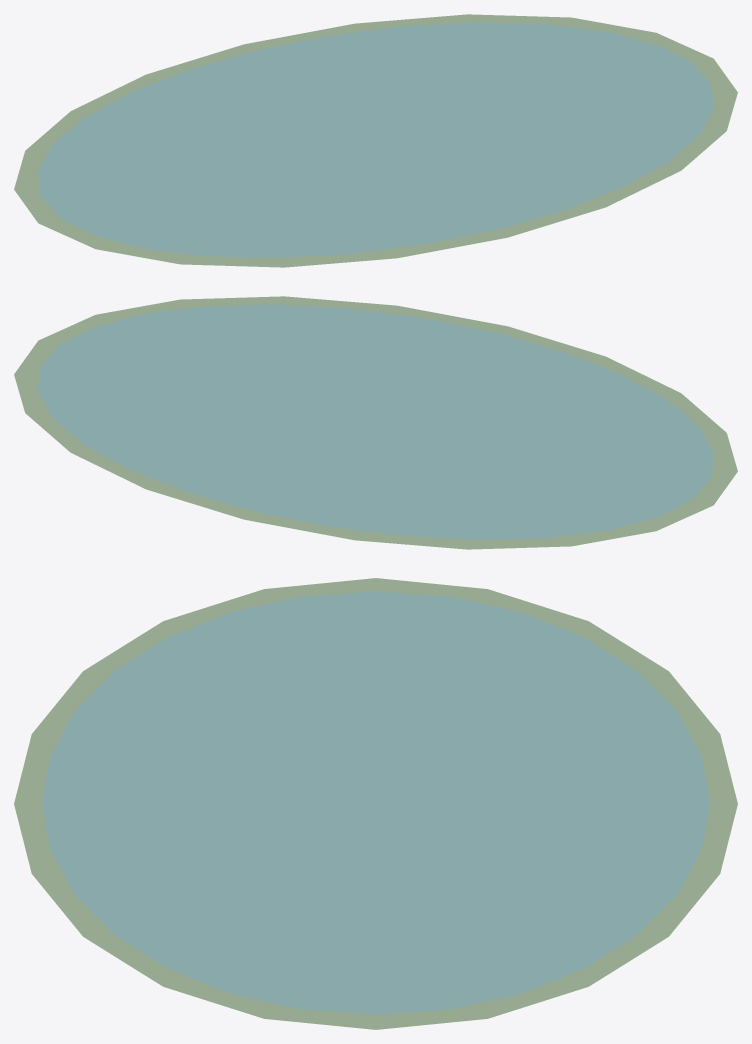
The model's file is lake-area.glb.
3 renders of one model, top to bottom at view 1: azimuth 30°, elevation 25°; view 2: azimuth 150°, elevation 25°; view 3: azimuth 270°, elevation 25°, orthographic. The views are drawn at different scales.
Visible parts, largest first — view 1: spatial-root; view 2: spatial-root; view 3: spatial-root.
Boxes of the visible parts, <box> form: spatial-root: <box>14,14,737,267</box>; spatial-root: <box>14,296,737,549</box>; spatial-root: <box>14,578,737,1029</box>.
Bounding box in the file's own units: 19.2 × 0.02 × 13.
